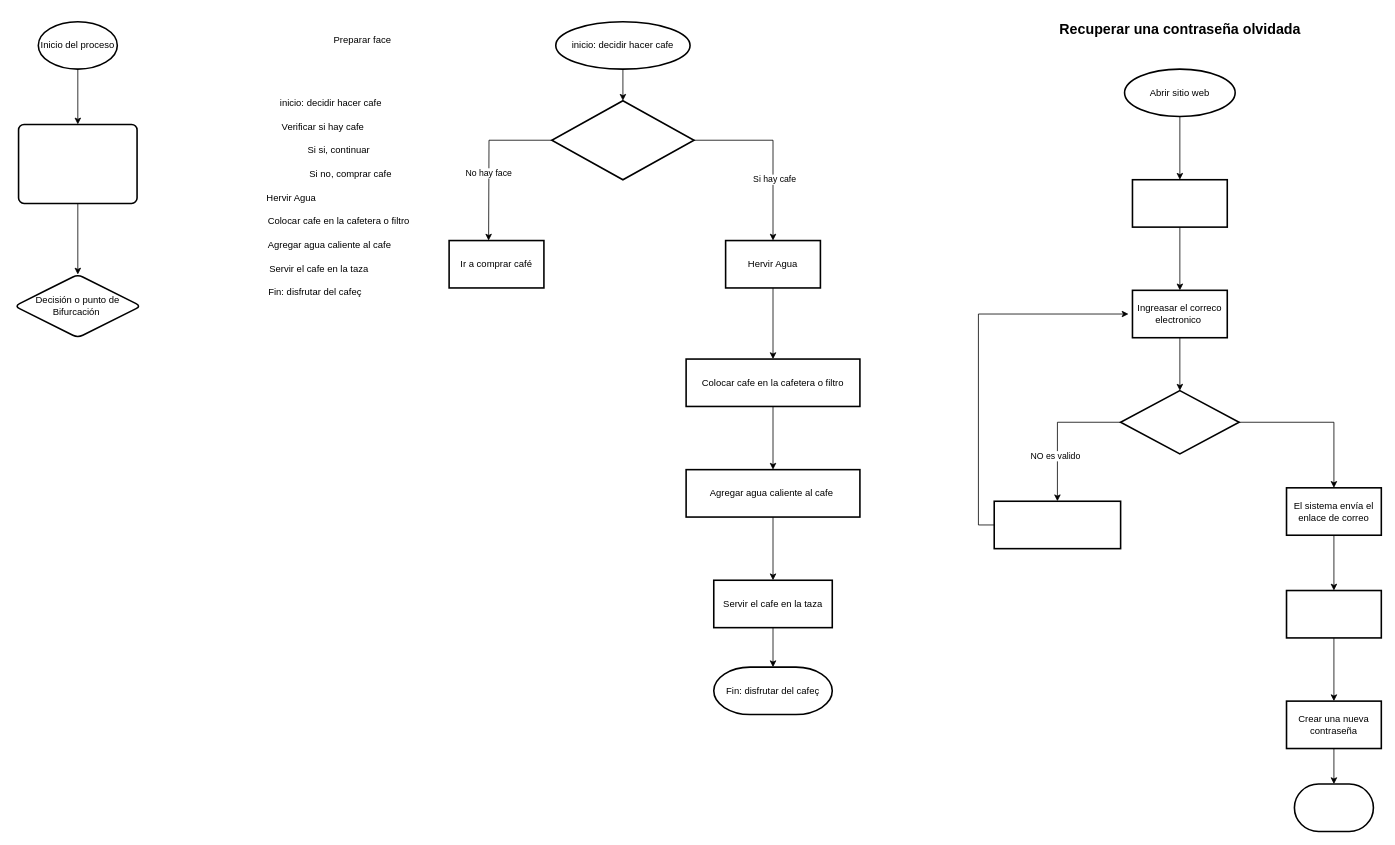
Some shapes in this 1395 by 845 pixel diagram are drawn without their labels. The shapes that lost their labels are listed below. From the top down, each one's centre as x and y in pixels, then its label:
the point at 622,140: ¿hay cafe?
the point at 77,163: Indica una acción o tarea a realizar
the point at 1179,203: Click en olvidaste la contraseña
the point at 1179,421: ¿El correo es valido?
the point at 1057,524: Mostrar el mensaje de error
the point at 1333,613: Abrir el corre y hacer click en el enlace recibido
the point at 1333,807: Contraseña restablecida
